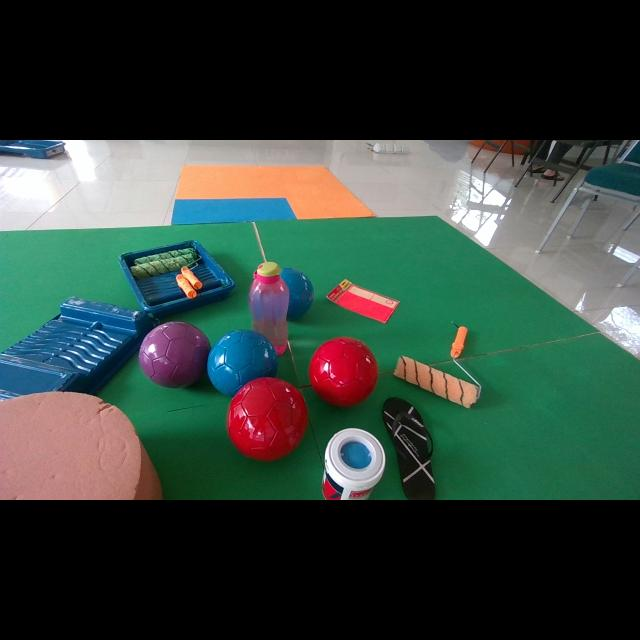B: (208, 330, 280, 396), (280, 268, 314, 319)
P: (139, 321, 210, 388)
R: (226, 378, 308, 461), (309, 336, 379, 406)
